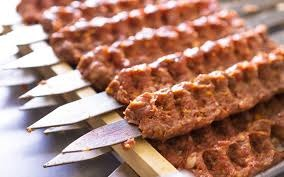kebap: (124, 47, 283, 138), (106, 26, 274, 104), (77, 11, 243, 89), (152, 94, 283, 176), (50, 0, 217, 63), (28, 0, 155, 32)
